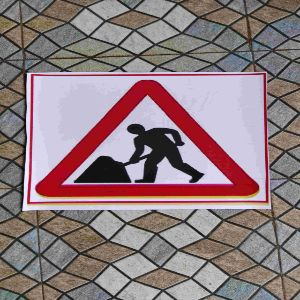men at work: (29, 74, 269, 206)
